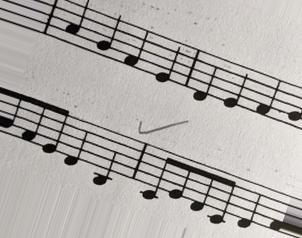A: (61, 1, 92, 52)
D: (190, 48, 218, 102), (235, 177, 263, 230), (62, 117, 89, 166)
E: (153, 34, 183, 86), (222, 59, 250, 110)
F: (255, 71, 282, 124), (122, 22, 150, 73)
G: (93, 10, 122, 65)
